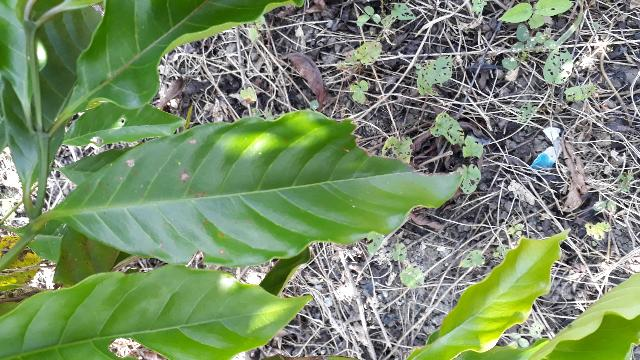red_spider_mite: (52, 111, 463, 267)
